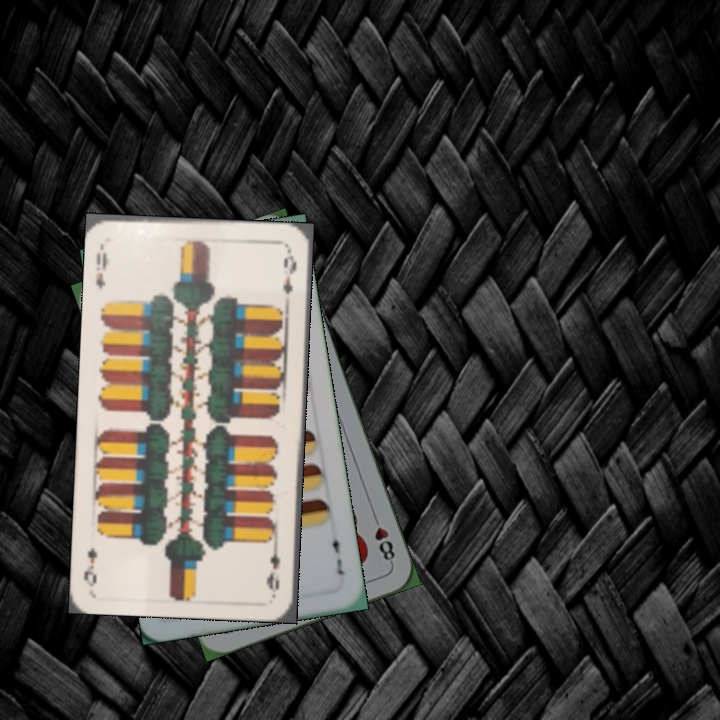E7: (328, 527, 347, 578)
E9: (262, 536, 283, 595), (92, 240, 111, 292)
H8: (368, 510, 398, 567)
